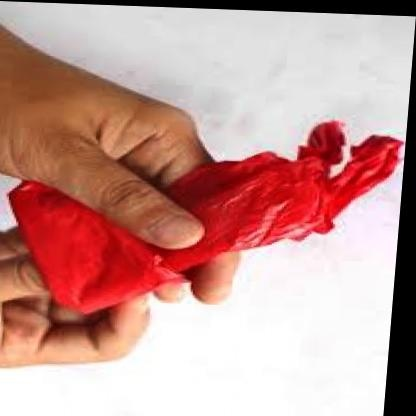trash: (10, 121, 401, 312)
